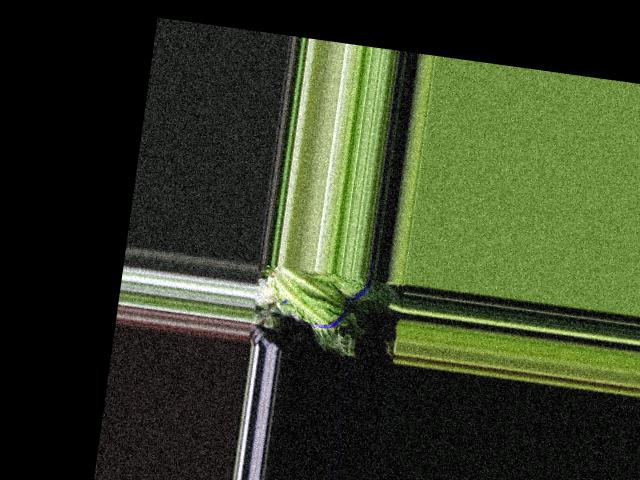lettuce: (270, 266, 371, 352)
